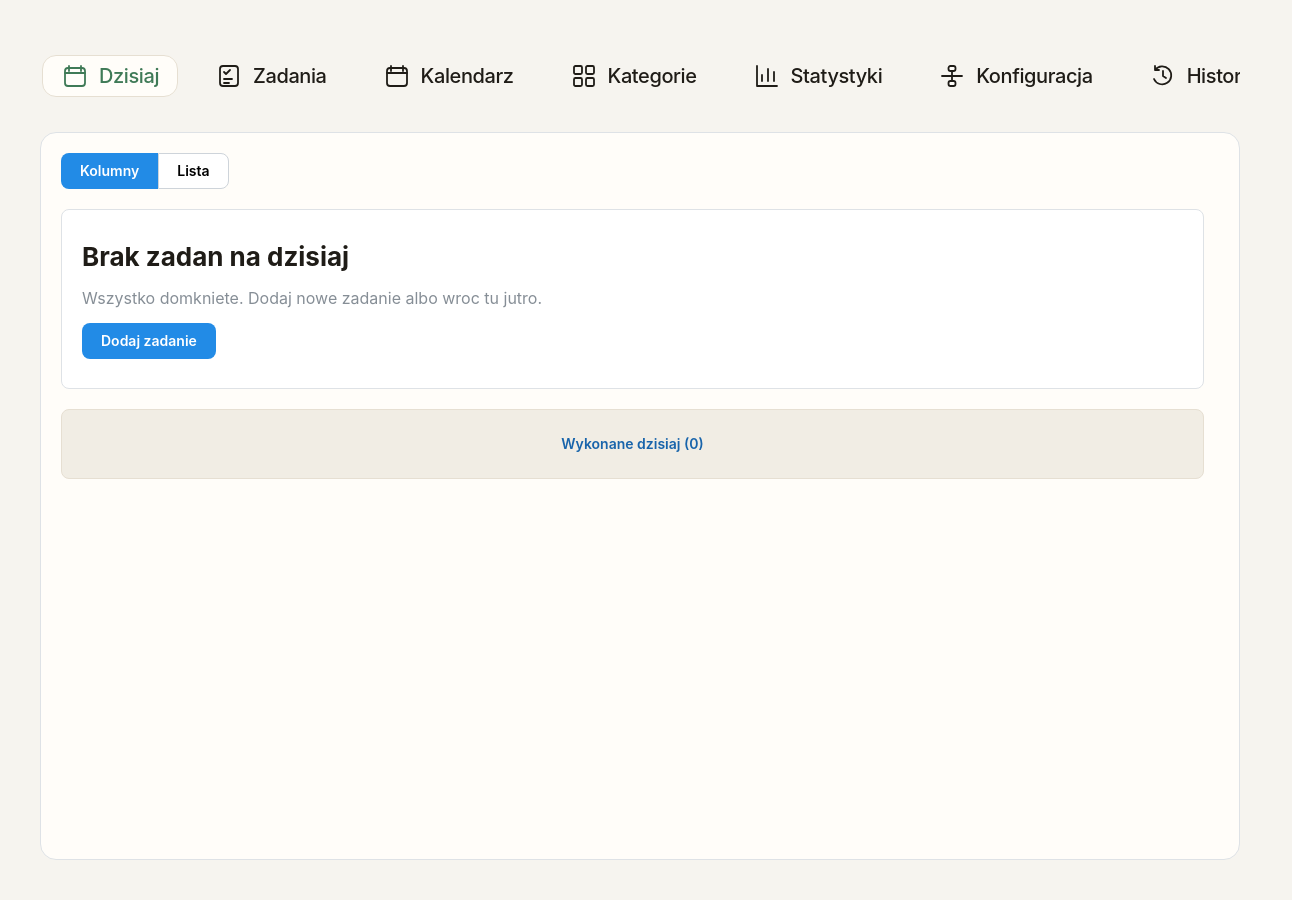
it: App › shows an empty statistics view when there are no categories
Step 1. Click the button "Statystyki" → (817,76), box x1=734 y1=55 x2=901 y2=97
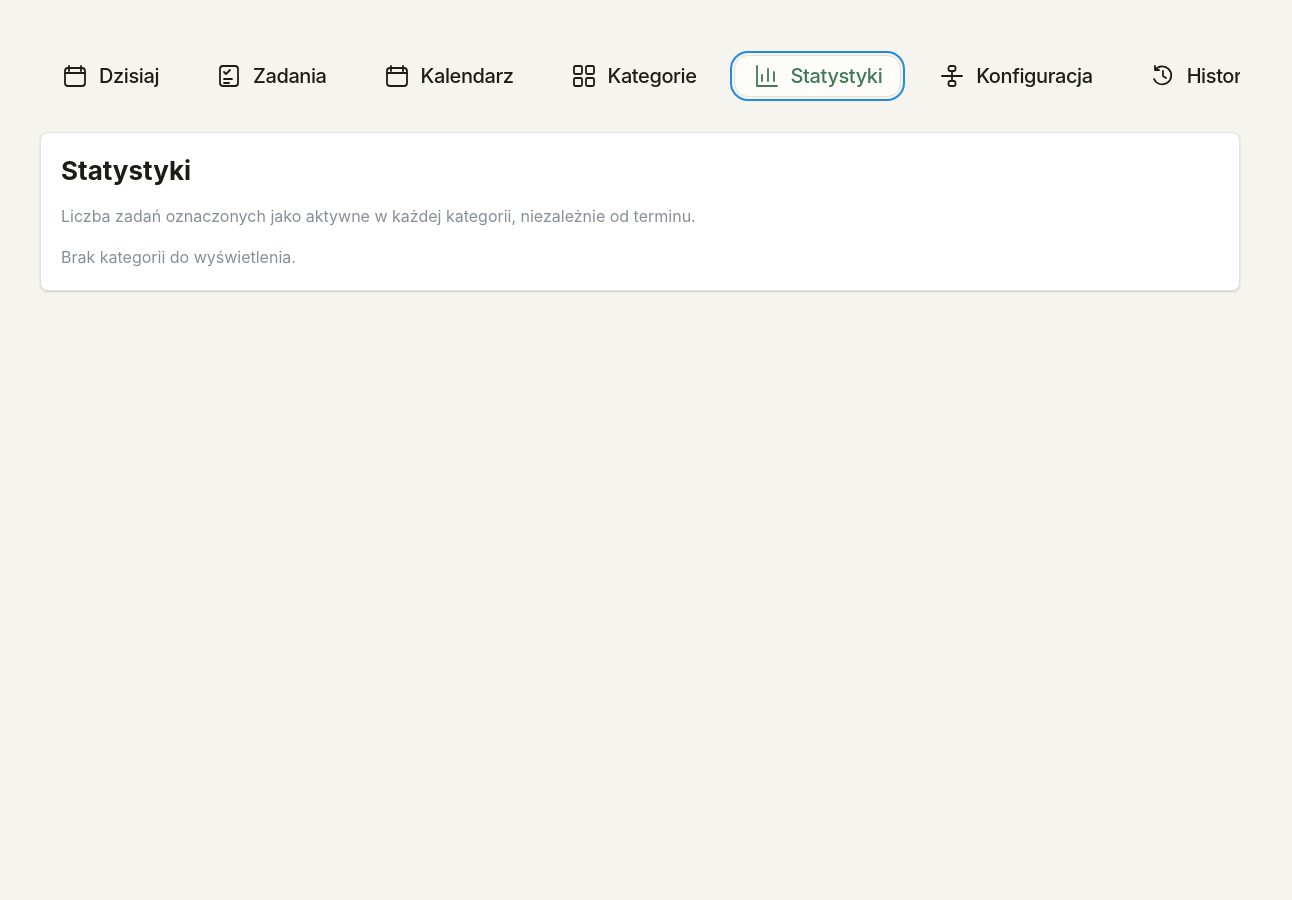
Expected: the text "Brak kategorii do wyświetlenia." is shown, x1=61 y1=247 x2=296 y2=267
